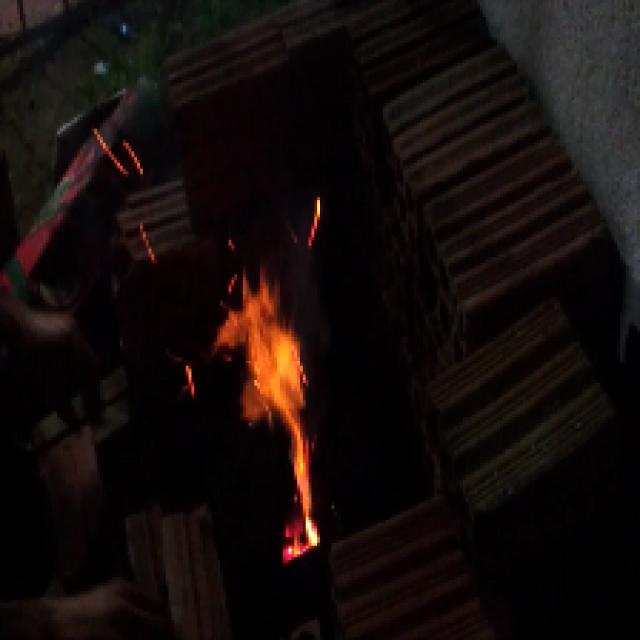fire: (208, 273, 312, 561)
